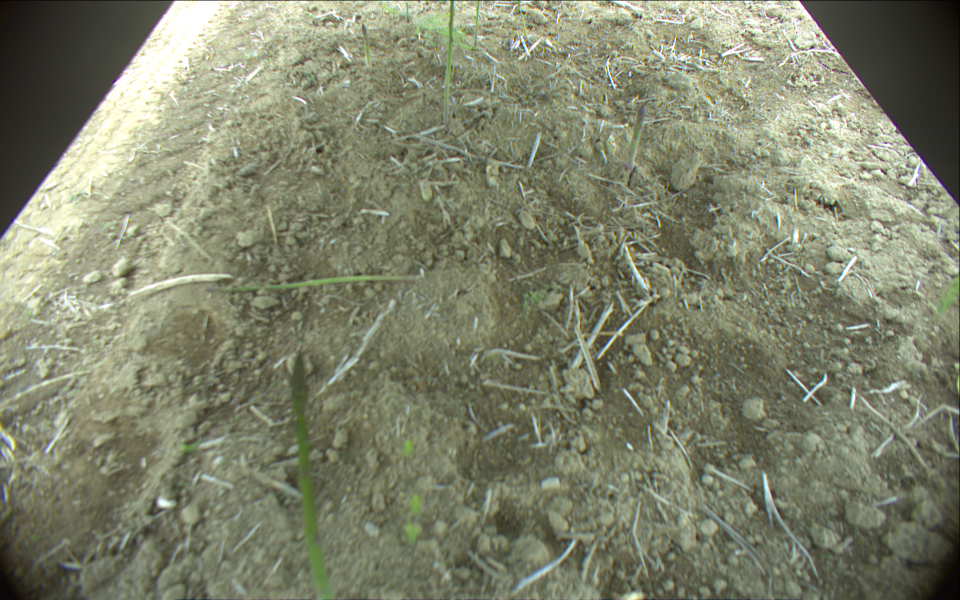aspa: (289, 350, 332, 600), (210, 274, 422, 293), (441, 1, 460, 132), (623, 105, 644, 177), (357, 18, 373, 69), (518, 1, 534, 43), (473, 1, 482, 47), (403, 1, 411, 27)
